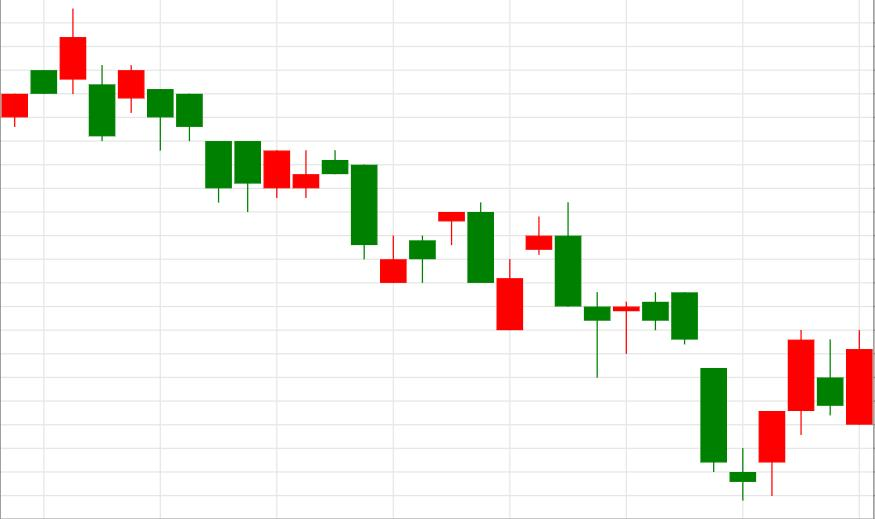morning_star_rise: (555, 202, 786, 500)
